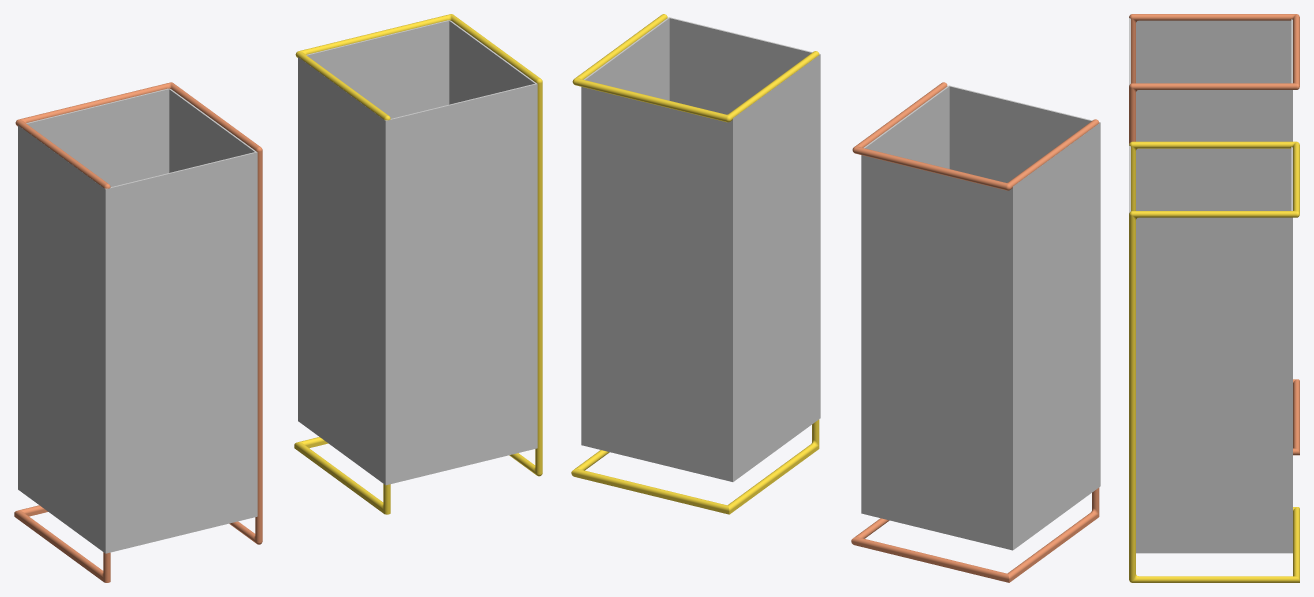
The model's file is poubelle.glb.
The picture shows the model from 3 angles, left to right: view 1: azimuth 30°, elevation 25°; view 2: azimuth 150°, elevation 25°; view 3: azimuth 270°, elevation 25°; orthographic projection. The views are drawn at different scales.
Visible parts, largest first — view 1: Part 3 (×2), Part 1, Part 2; view 2: Part 3 (×2), Part 1, Part 2; view 3: Part 3 (×2), Part 2, Part 1.
Boxes of the visible parts, <box> form: Part 3 (×2): <box>18,20,537,553</box>; Part 1: <box>14,82,262,582</box>; Part 2: <box>294,14,542,514</box>; Part 3 (×2): <box>581,17,1100,550</box>; Part 1: <box>851,82,1099,582</box>; Part 2: <box>571,14,819,514</box>; Part 3 (×2): <box>1129,16,1292,553</box>; Part 2: <box>1129,141,1299,582</box>; Part 1: <box>1129,14,1299,455</box>.
Bounding box in the file's own units: 1.39 × 1.2 × 0.5.
